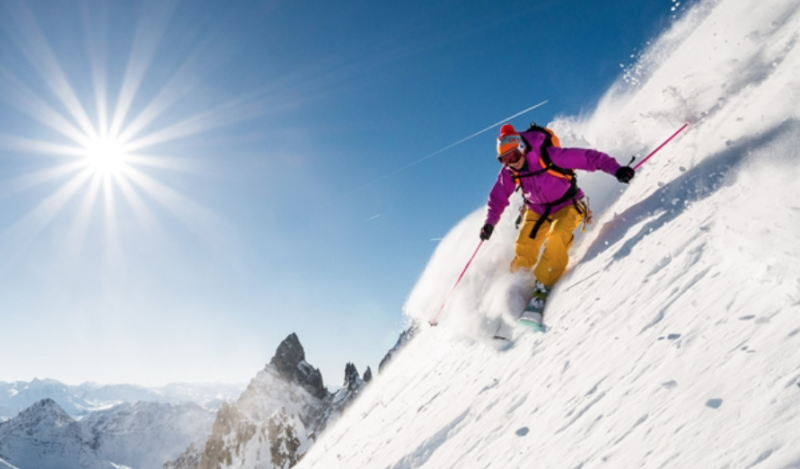skier: (428, 121, 637, 345)
